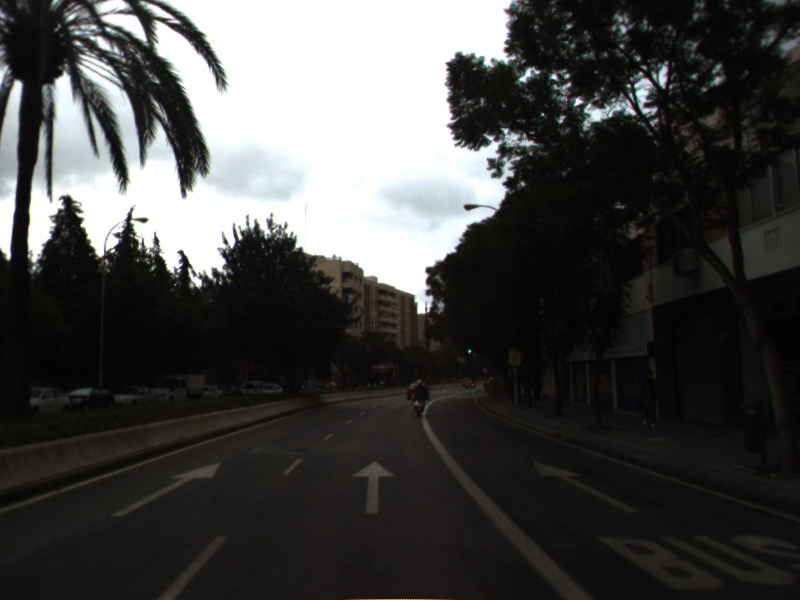STRAIGHT: (108, 459, 225, 519), (531, 459, 641, 516), (349, 458, 399, 517)
